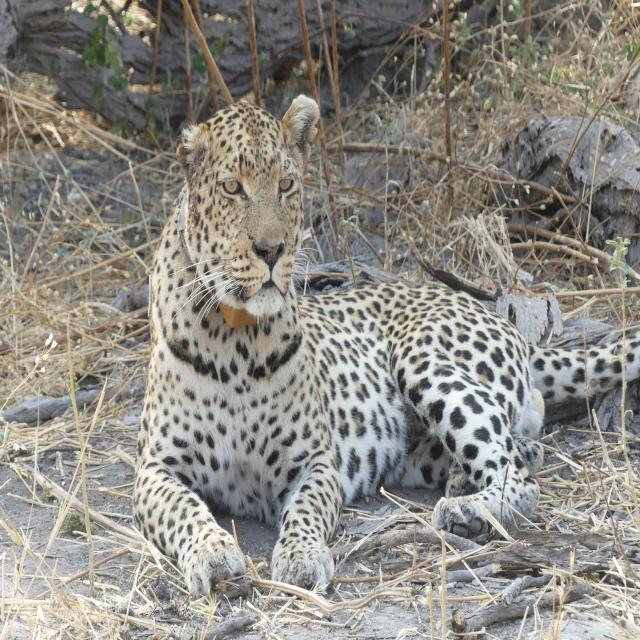Leopard: (123, 106, 640, 583)
